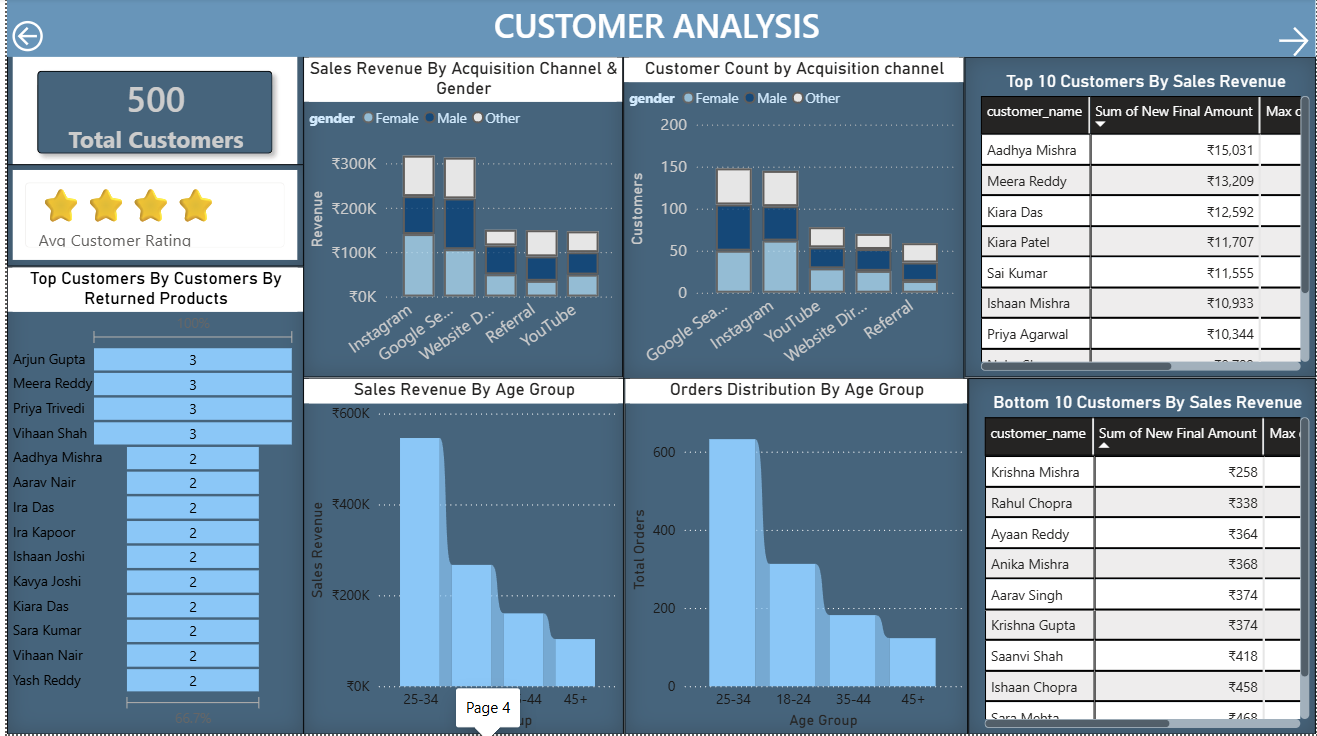

The page's visual inventory and layout, read from the dashboard file:
{"tool":"powerbi","page":{"name":"Page 4","canvas":[1280,720],"ordinal":3},"visuals":[{"type":"cardVisual","fields":{"Data":["Count(Customers.customer_id)"]},"box":[0,41.2,290,141.2],"z":0},{"type":"columnChart","title":"Customer Count  by Acquisition channel ","fields":{"Category":["Customers.acquisition_channel"],"Y":["CountNonNull(Customers.gender)"],"Series":["Customers.gender"]},"box":[602.5,57.5,333.8,315],"z":1000},{"type":"columnChart","title":"Orders Distribution By  Age Group ","fields":{"Y":["Count(Order_Items.order_id)"],"Category":["Customers.age_group"]},"box":[603.8,371.2,336.2,348.8],"z":2000},{"type":"columnChart","title":"Sales Revenue By Acquisition Channel & Gender","fields":{"Category":["Customers.acquisition_channel"],"Series":["Customers.gender"],"Y":["Sum(Orders.New Final Amount )"]},"box":[290,57.5,312.5,313.8],"z":3000},{"type":"columnChart","title":"Sales Revenue By  Age Group ","fields":{"Category":["Customers.age_group"],"Y":["Sum(Orders.New Final Amount )"]},"box":[290,371.2,313.8,348.8],"z":4000},{"type":"cardVisual","fields":{"Data":["Customers.Avg Rating"]},"box":[0,162.5,290,100],"z":5000},{"type":"pivotTable","title":"Top 10 Customers By Sales Revenue ","fields":{"Rows":["Customers.customer_name"],"Values":["Sum(Orders.New Final Amount )","Max(Orders.Discount Percentage)"]},"box":[936.2,57.5,343.8,313.8],"z":6000},{"type":"pivotTable","title":"Bottom 10 Customers By Sales Revenue ","fields":{"Rows":["Customers.customer_name"],"Values":["Sum(Orders.New Final Amount )","Max(Orders.Discount Percentage)"]},"box":[940,371.2,340,348.8],"z":7000},{"type":"funnel","title":"Top Customers By Customers By Returned Products","fields":{"Category":["Customers.customer_name"],"Y":["Orders.Total Returned Products"]},"box":[0,262.5,290,457.5],"z":8000},{"type":"textbox","box":[0,0,1280,57.5],"z":9000},{"type":"actionButton","box":[0,17.1,100.3,40.4],"z":10000},{"type":"actionButton","box":[1239.3,23.1,40.4,39],"z":10001}]}

Visuals, with their boxes in screenshot pixels (x1, y1, x2, y2), scaled from the page's 1280x720 canvas onto the 1317x736 screenshot:
cardVisual - Count(Customers.customer_id): (left=0, top=42, right=298, bottom=186)
"Customer Count  by Acquisition channel " columnChart: (left=620, top=59, right=963, bottom=381)
"Orders Distribution By  Age Group " columnChart: (left=621, top=379, right=967, bottom=735)
"Sales Revenue By Acquisition Channel & Gender" columnChart: (left=298, top=59, right=620, bottom=380)
"Sales Revenue By  Age Group " columnChart: (left=298, top=379, right=621, bottom=735)
cardVisual - Customers.Avg Rating: (left=0, top=166, right=298, bottom=268)
"Top 10 Customers By Sales Revenue " pivotTable: (left=963, top=59, right=1316, bottom=380)
"Bottom 10 Customers By Sales Revenue " pivotTable: (left=967, top=379, right=1316, bottom=735)
"Top Customers By Customers By Returned Products" funnel: (left=0, top=268, right=298, bottom=735)
textbox: (left=0, top=0, right=1316, bottom=59)
actionButton: (left=0, top=17, right=103, bottom=59)
actionButton: (left=1275, top=24, right=1316, bottom=63)
